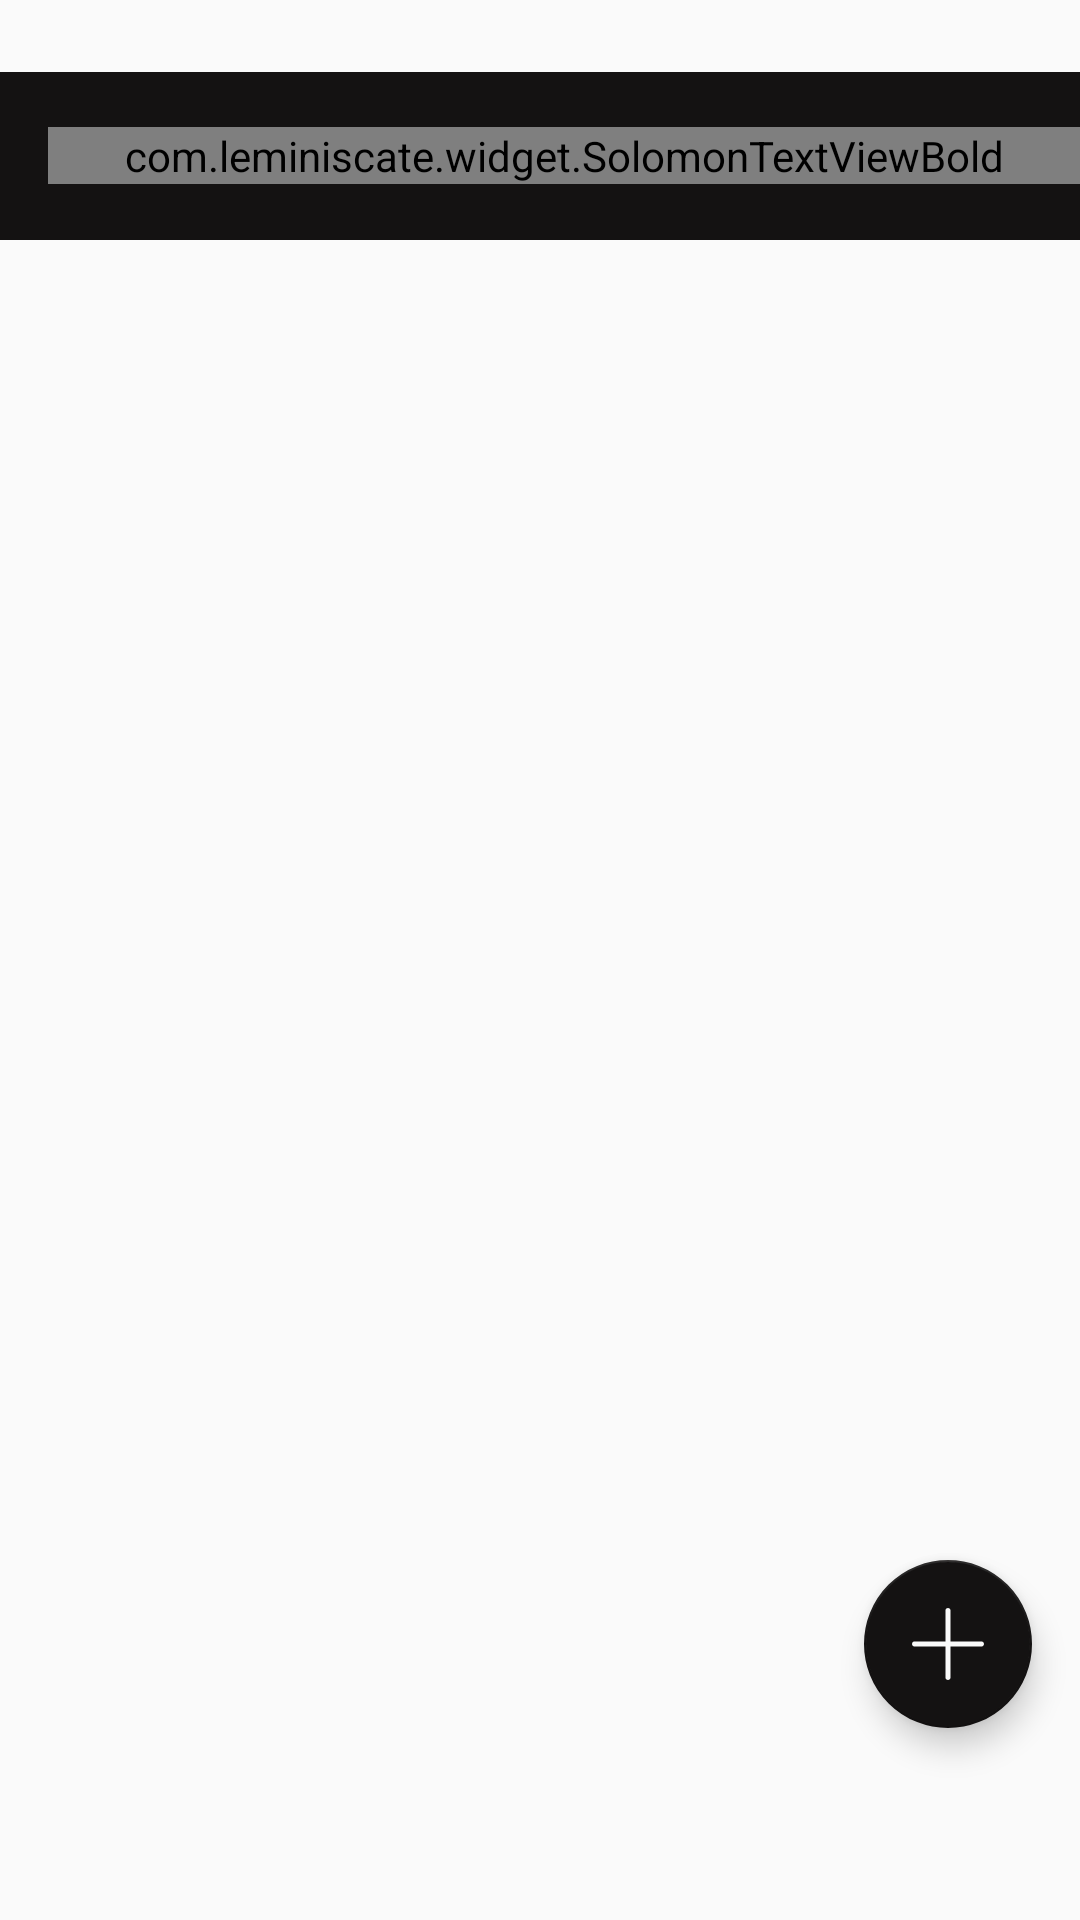

Locate icon controls on the screen. Image size 1080px×1920px, boxes as {"x1": x1, "y1": y1, "x2": x2, "y2": y2}.
plus: {"x1": 864, "y1": 1560, "x2": 1032, "y2": 1728}
